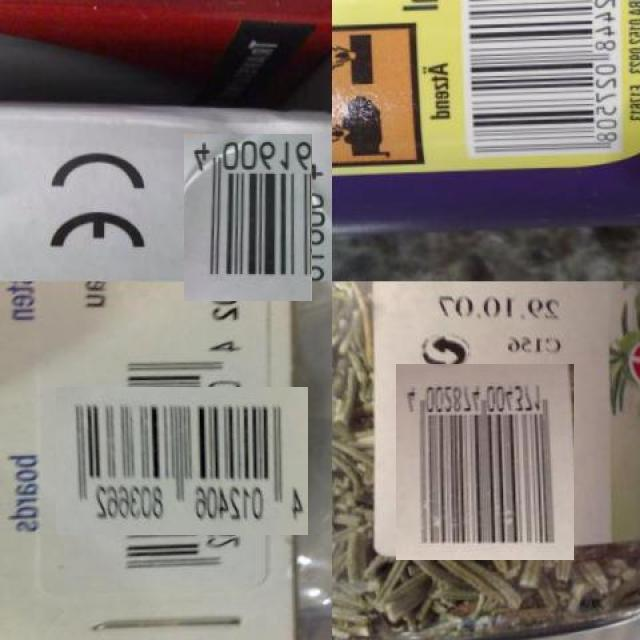Barcode: (82, 361, 282, 562), (392, 368, 579, 556), (453, 0, 626, 165), (174, 144, 322, 292)
